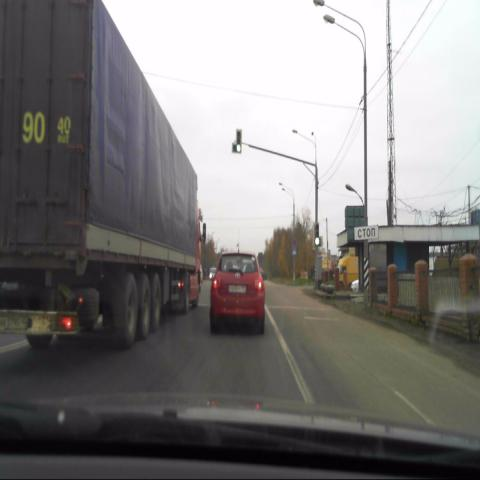6_16: (356, 223, 378, 241)
